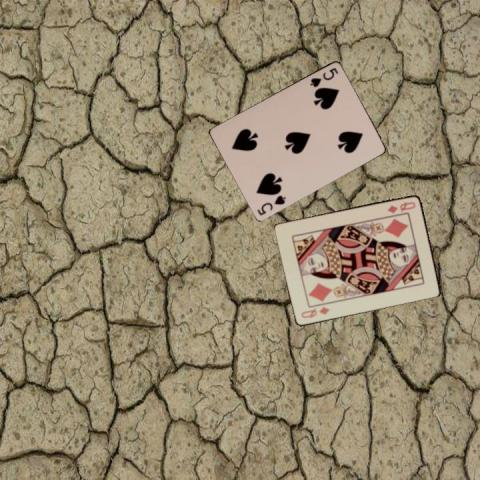5s: (254, 192, 287, 216), (307, 64, 339, 88)
Qd: (298, 303, 331, 320), (385, 198, 417, 214)
